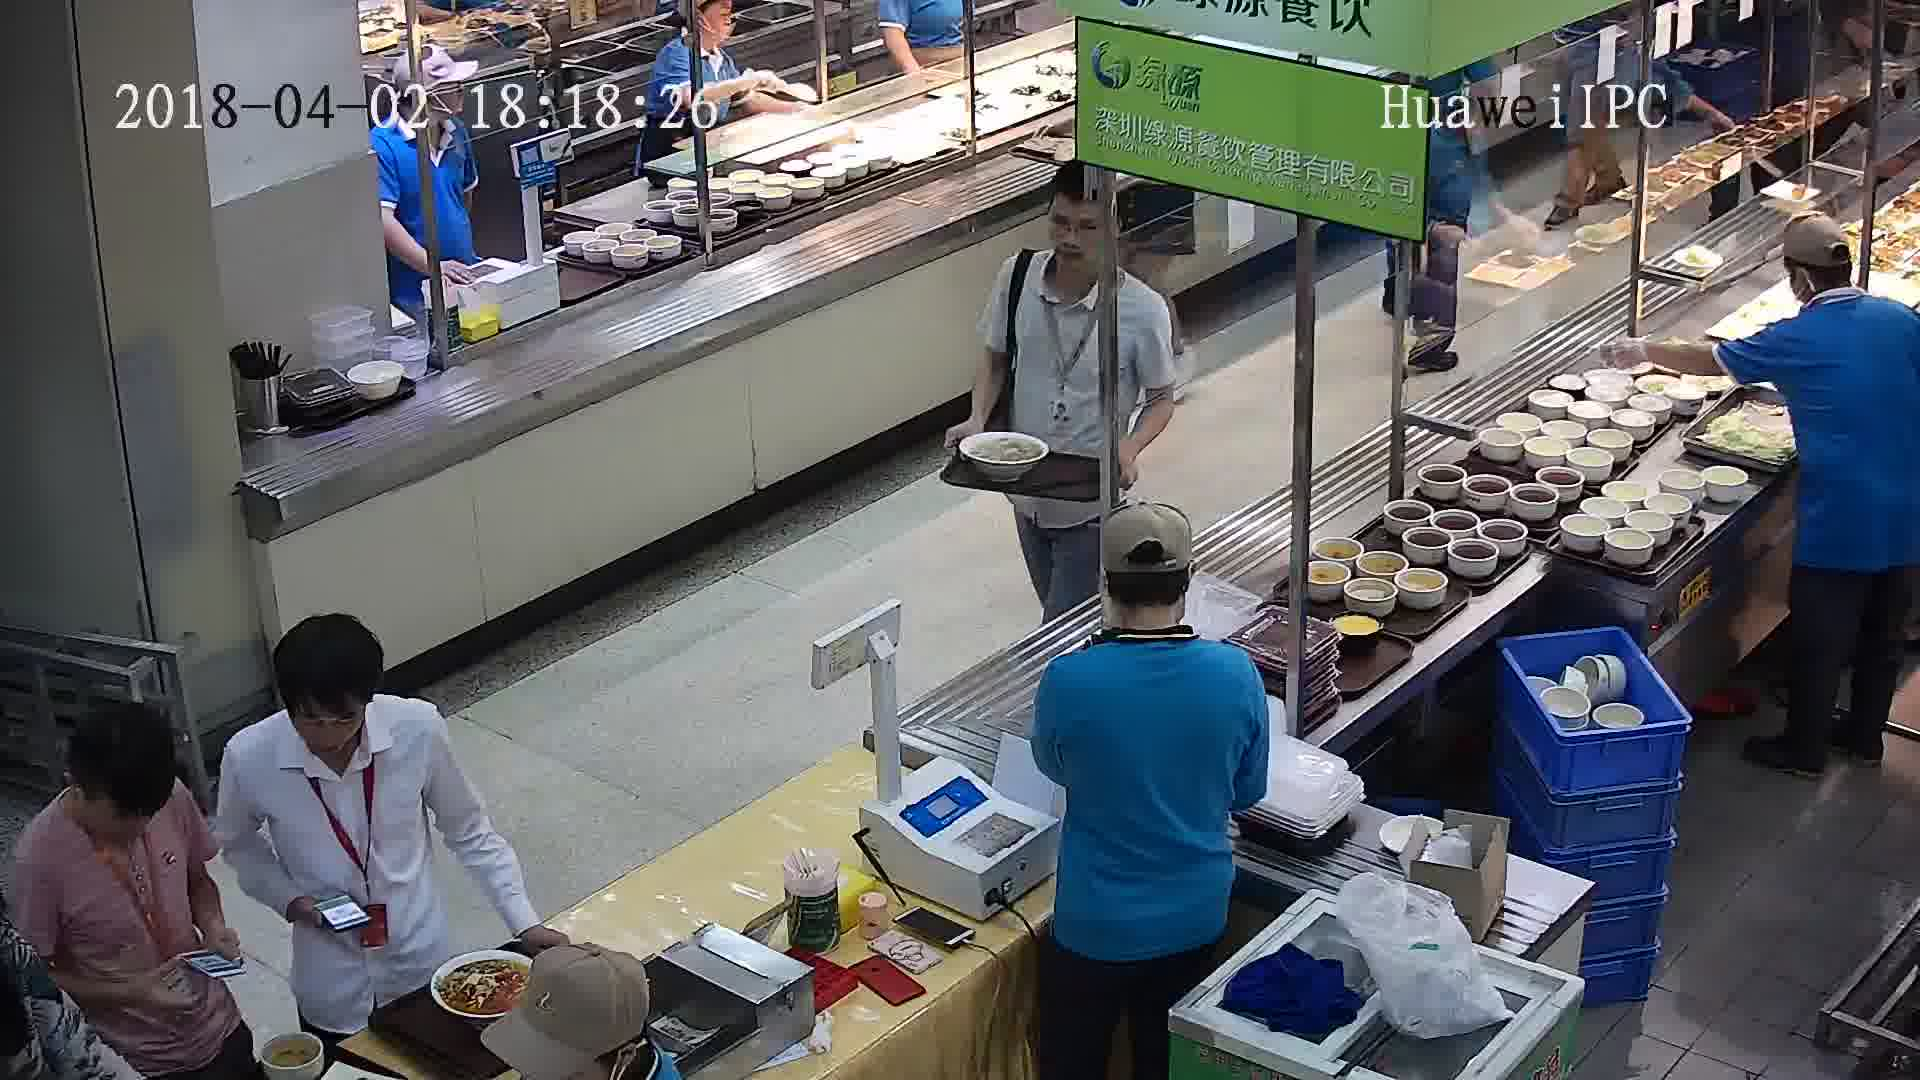face: (297, 690, 362, 755)
person: (218, 611, 463, 819), (1041, 504, 1264, 725), (16, 704, 199, 898), (989, 163, 1172, 342), (1735, 214, 1919, 382), (367, 42, 472, 151), (655, 1, 745, 76)
